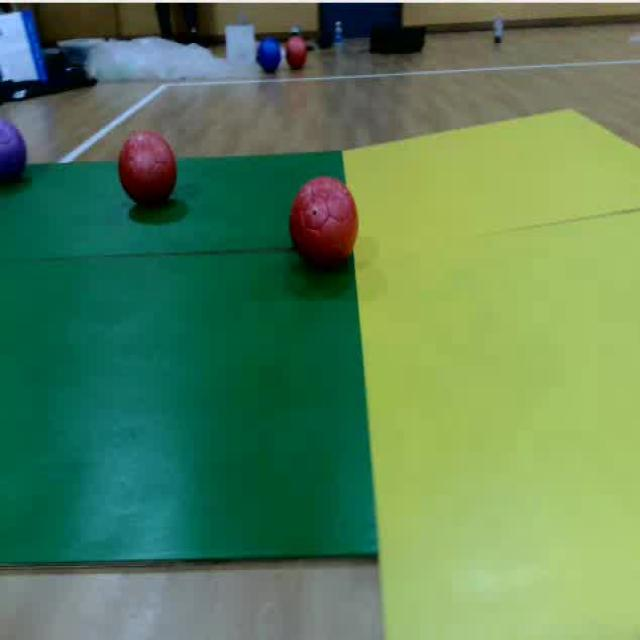blue_ball: (0, 115, 27, 194)
red_ball: (289, 178, 358, 269), (115, 130, 179, 210)
